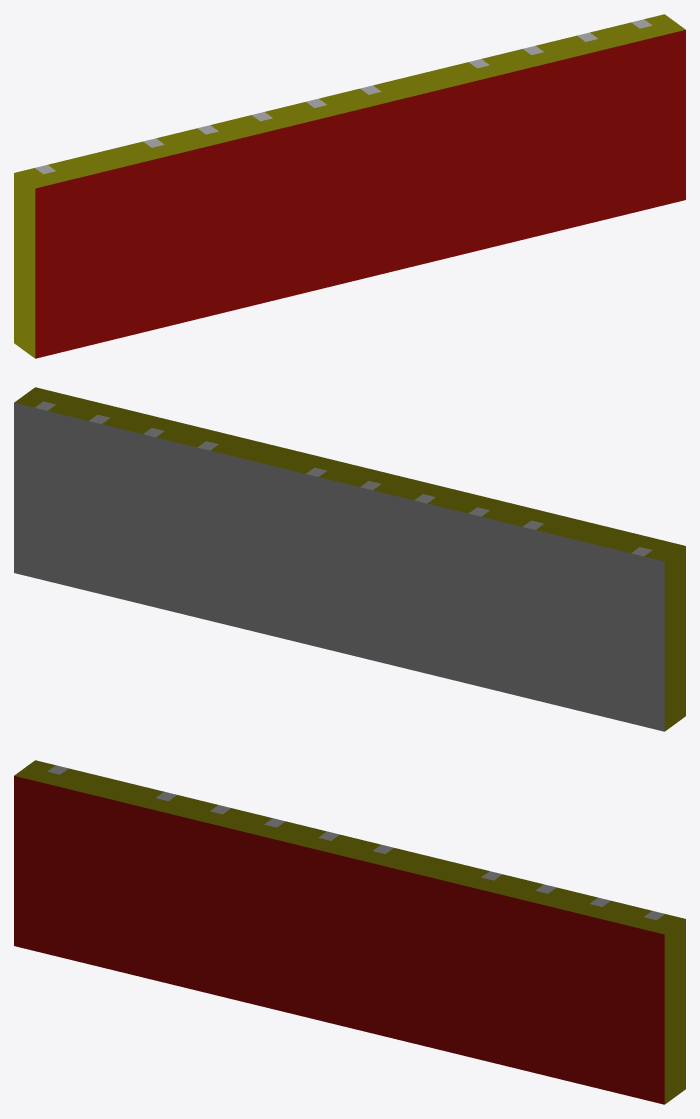
Rendered from idf.obj.
The picture shows the model from 3 angles, top to bottom: view 1: azimuth 30°, elevation 25°; view 2: azimuth 150°, elevation 25°; view 3: azimuth 330°, elevation 25°; orthographic projection.
Bounding box in the file's own units: 91.44 × 22.86 × 5.18.
